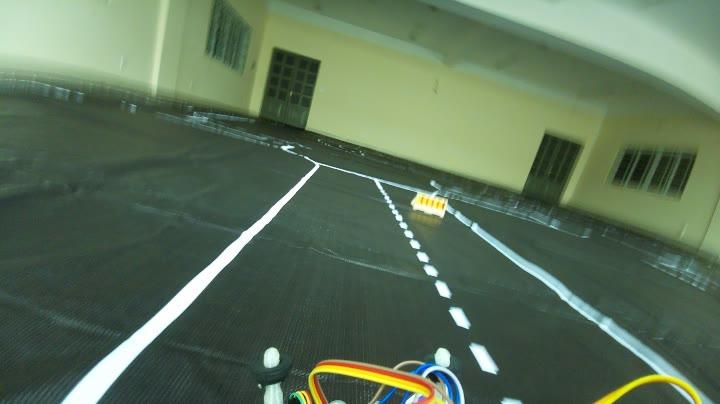roadblock: (403, 189, 457, 225)
